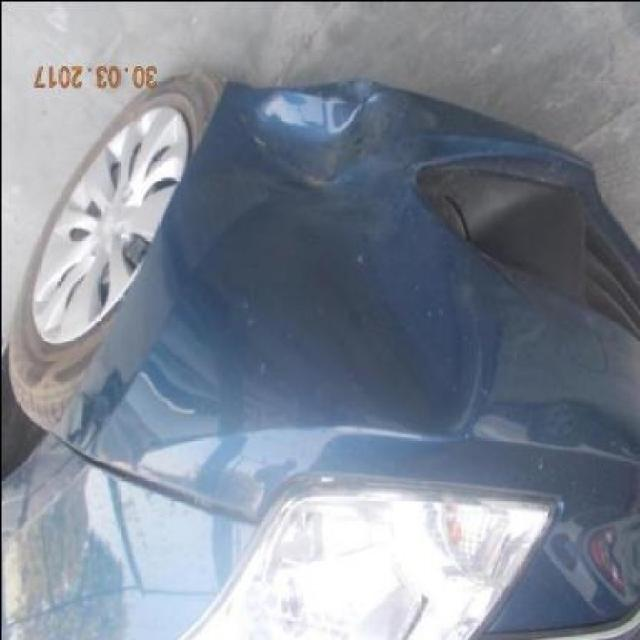damage: (213, 75, 478, 430)
